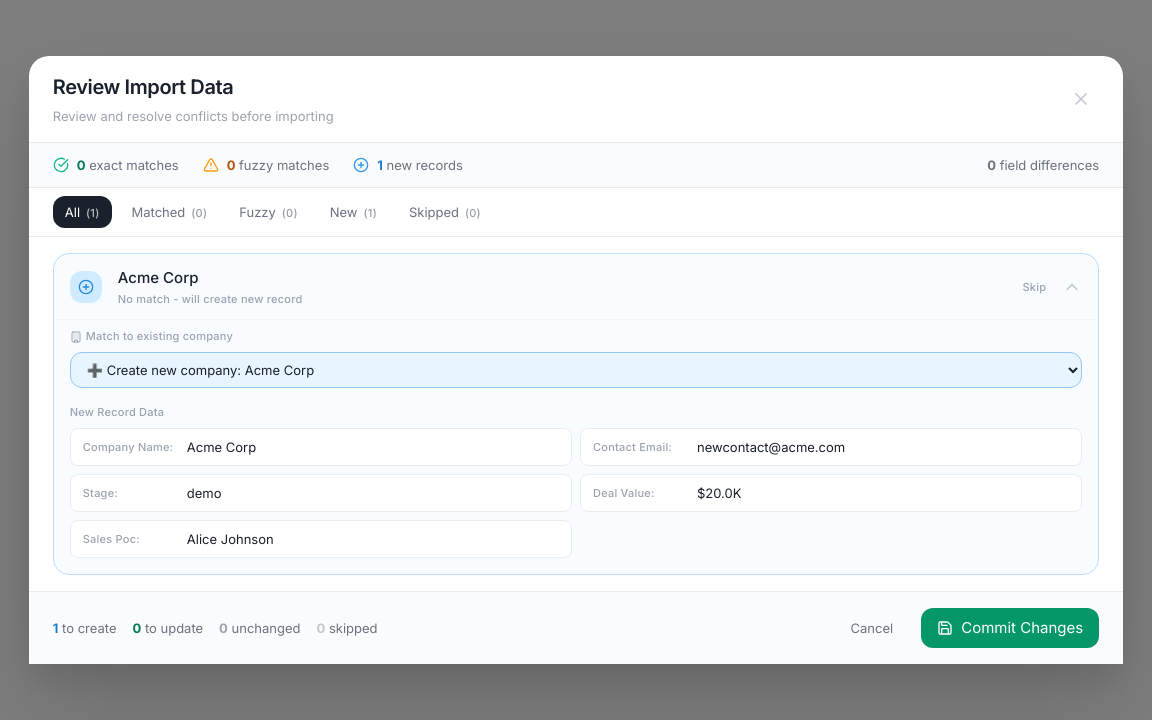
Test: ExcelReviewModal - Field Diff Recalculation › Diff Recalculation on Match Change › 3. calculates fieldDiffs when changing from "new" to a matched company
The width and height of the screenshot is (1152, 720).
// Change to company-1 (Acme Corp)
Select "✓ Acme Corp (100% match)" in the dropdown at (576, 370), box [70,352,1082,388]
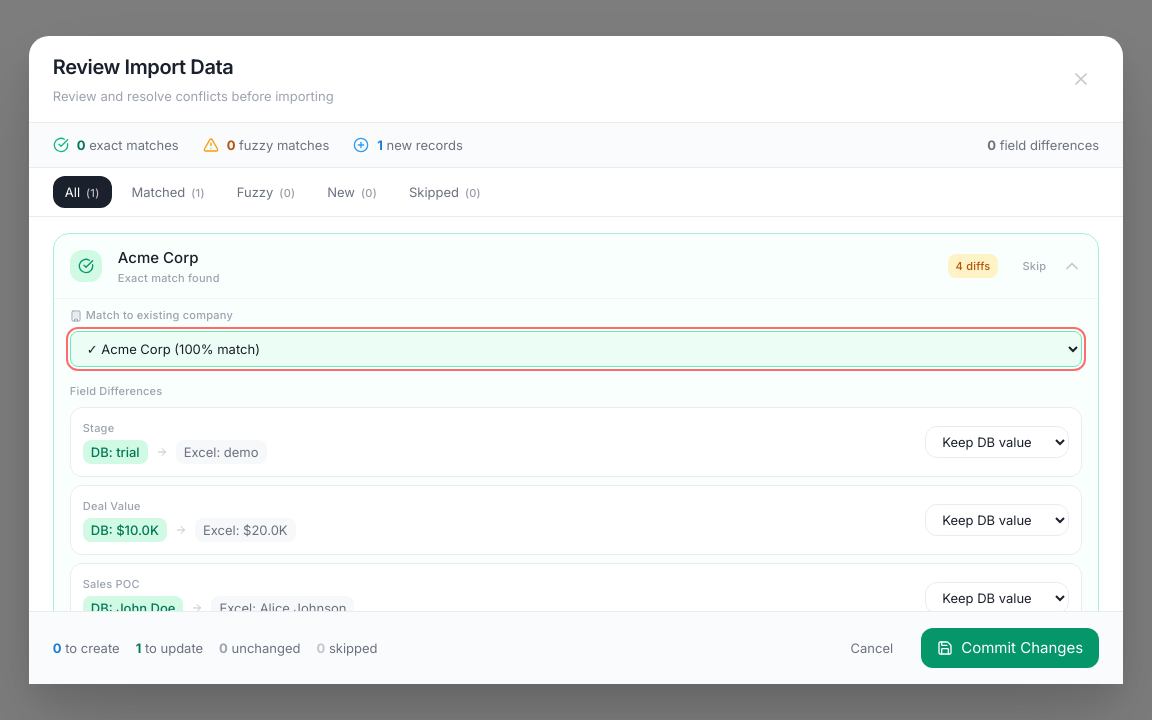
Check: the text "4 diffs" is shown, box [948,254,998,278]
